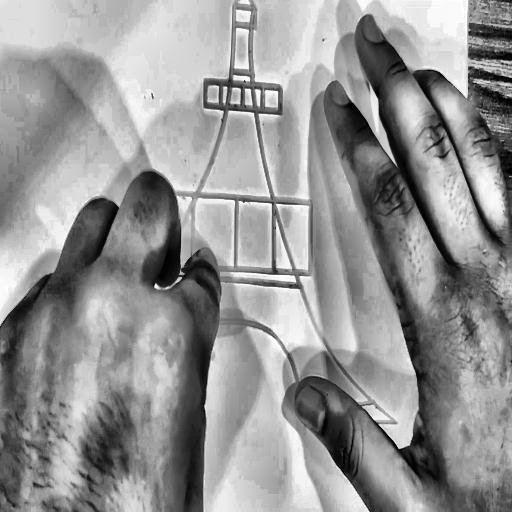eiffel-tower: (43, 0, 405, 433)
